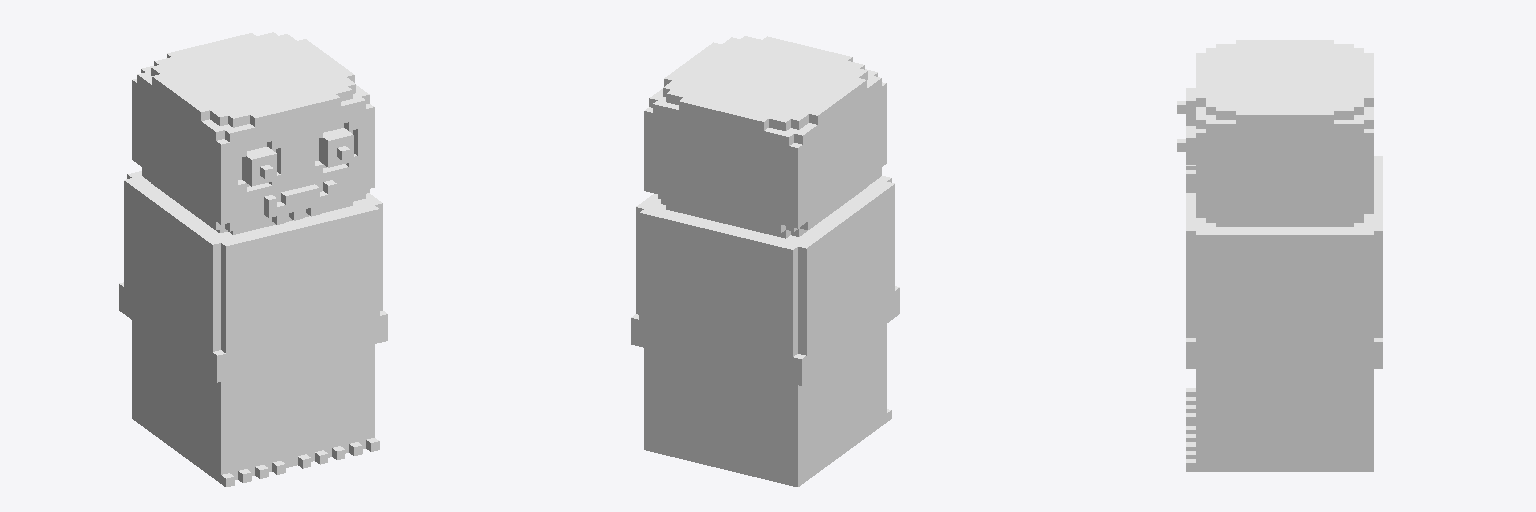
Rendered from PlayerCharacter.obj.
3 renders of one model, left to right at view 1: azimuth 30°, elevation 25°; view 2: azimuth 150°, elevation 25°; view 3: azimuth 270°, elevation 25°, orthographic.
Parts seen in each view (by area): view 1: object 1; view 2: object 1; view 3: object 1.
Part boxes in pixels (x1,y1,x2,y2): object 1: (119,32,387,486); object 1: (631,36,899,486); object 1: (1177,40,1382,471).
Bounding box in the file's own units: 2 × 4 × 2.1.